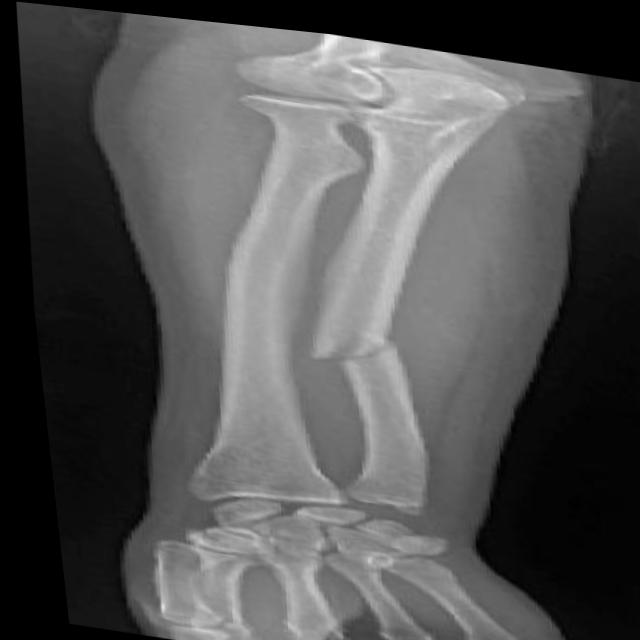fracture: (297, 310, 412, 373)
